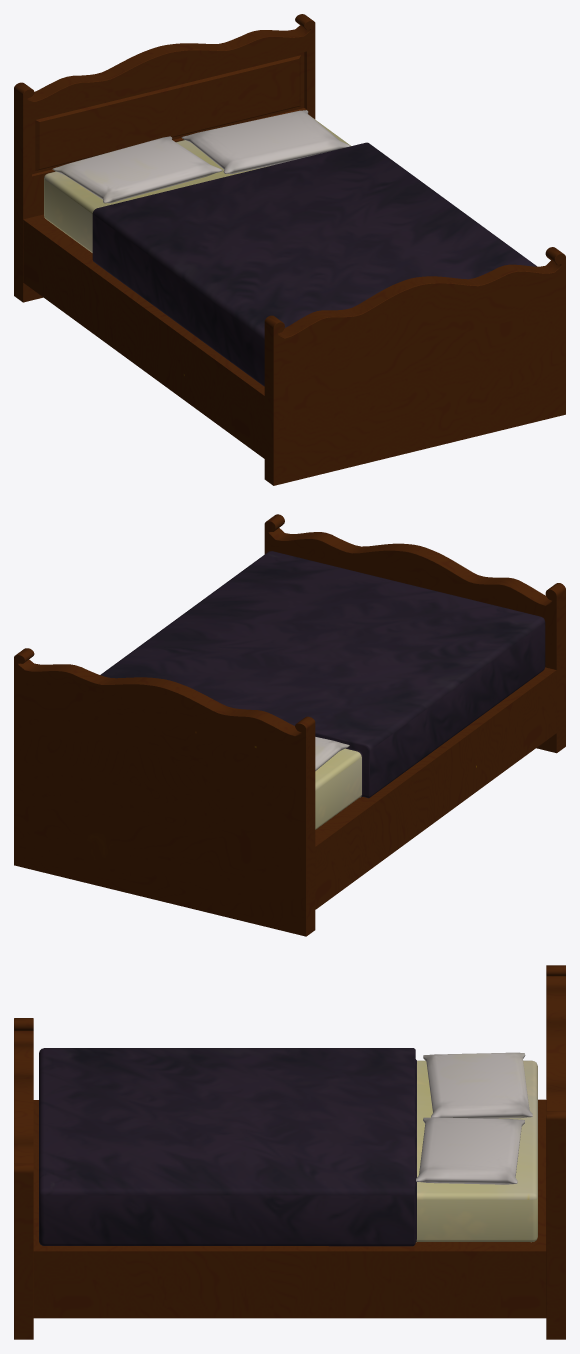
The model's file is Bed.fbx.
The picture shows the model from 3 angles, top to bottom: view 1: azimuth 30°, elevation 25°; view 2: azimuth 150°, elevation 25°; view 3: azimuth 270°, elevation 25°; orthographic projection. The views are drawn at different scales.
Parts seen in each view (by area): view 1: Colchón.007; view 2: Colchón.007; view 3: Colchón.007.
Part boxes in pixels (x1,y1,x2,y2): Colchón.007: (14, 14, 565, 485); Colchón.007: (14, 514, 565, 936); Colchón.007: (14, 965, 565, 1339).
Bounding box in the file's own units: 236 × 165 × 363.
